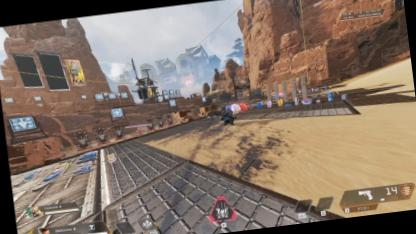Target: (218, 106, 234, 126)
